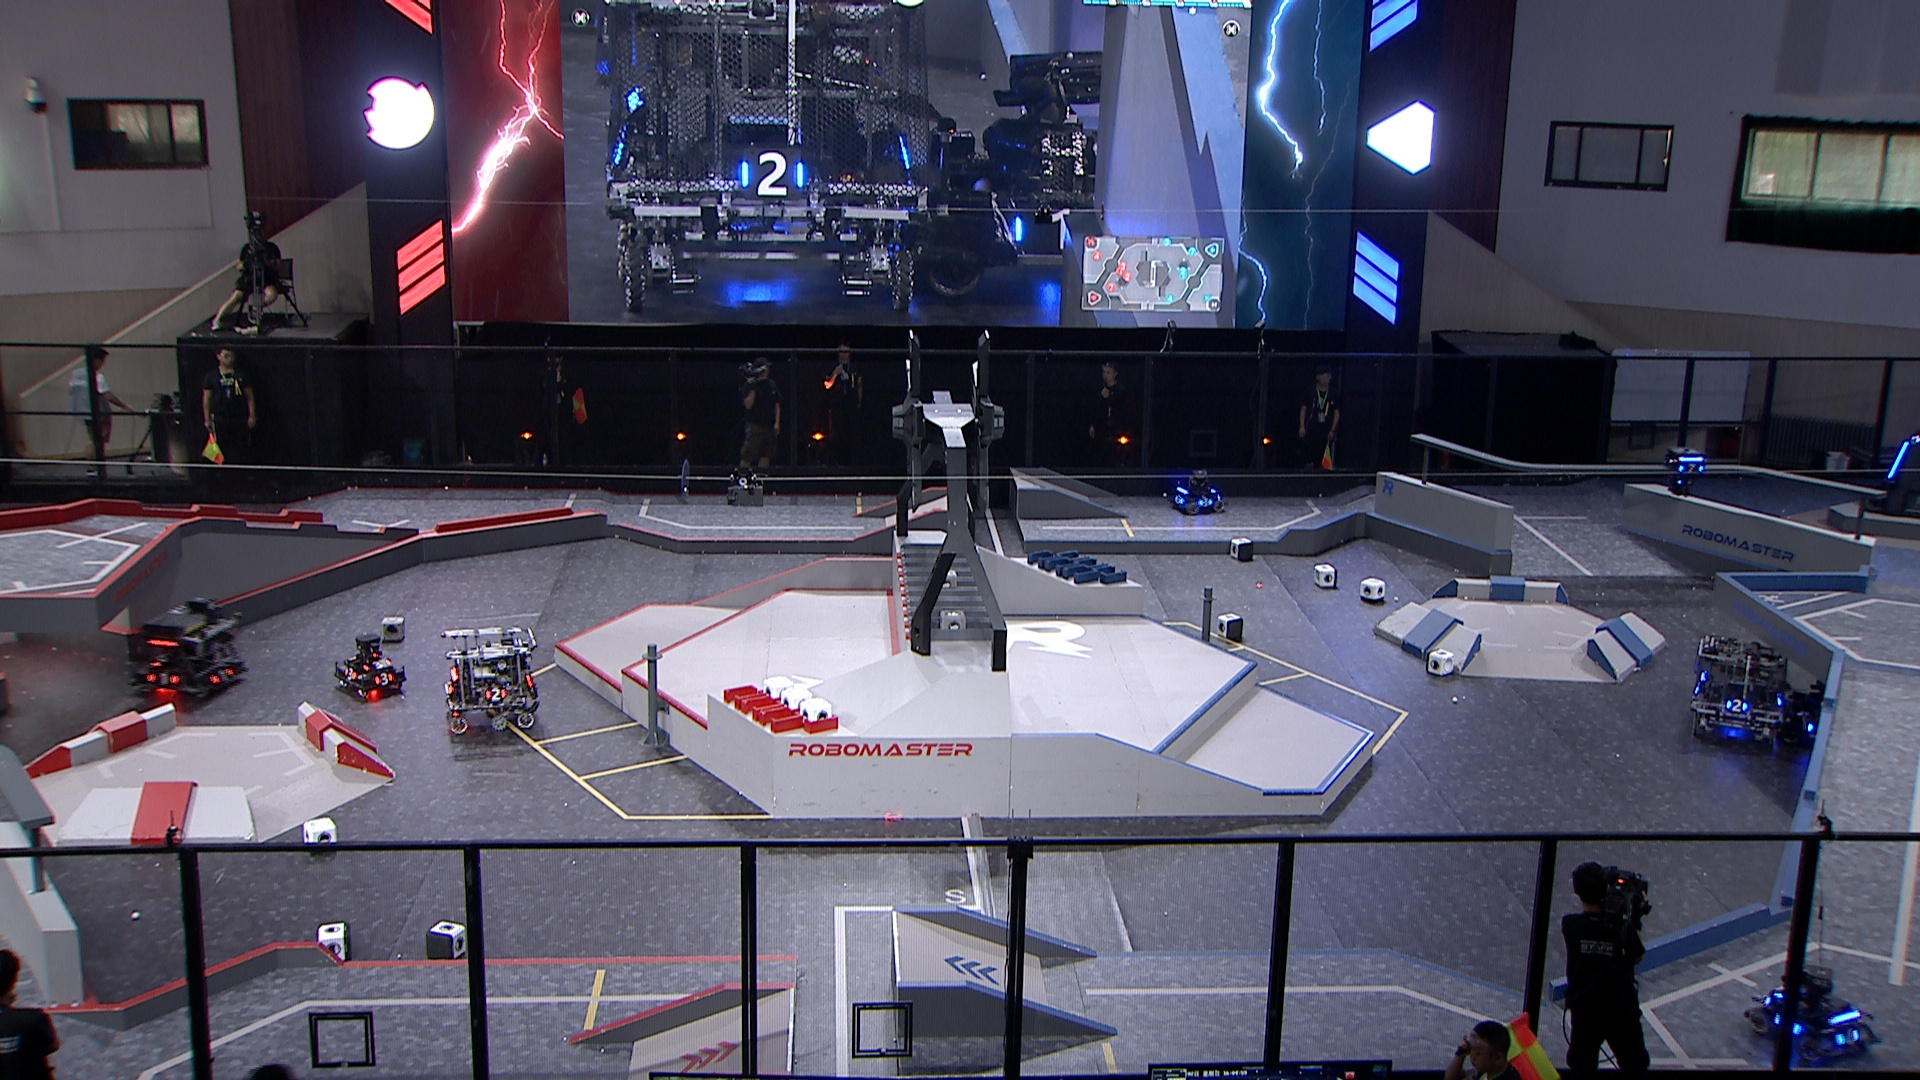armor: (1888, 439, 1912, 479), (1836, 1027, 1863, 1048), (146, 670, 179, 687), (1677, 462, 1705, 477), (210, 669, 235, 684), (359, 659, 392, 671), (372, 671, 396, 687), (1726, 698, 1750, 713), (1797, 716, 1816, 736), (484, 688, 509, 703), (342, 665, 359, 683), (1197, 498, 1215, 509), (1174, 495, 1187, 508)
base: (1865, 433, 1920, 522)
car: (1747, 963, 1884, 1067), (129, 599, 252, 699), (1691, 637, 1792, 752), (439, 624, 539, 735), (1792, 669, 1879, 749), (334, 633, 407, 699), (1168, 469, 1228, 517)
ignore: (926, 51, 1112, 302)
watcher: (1665, 446, 1709, 498)
